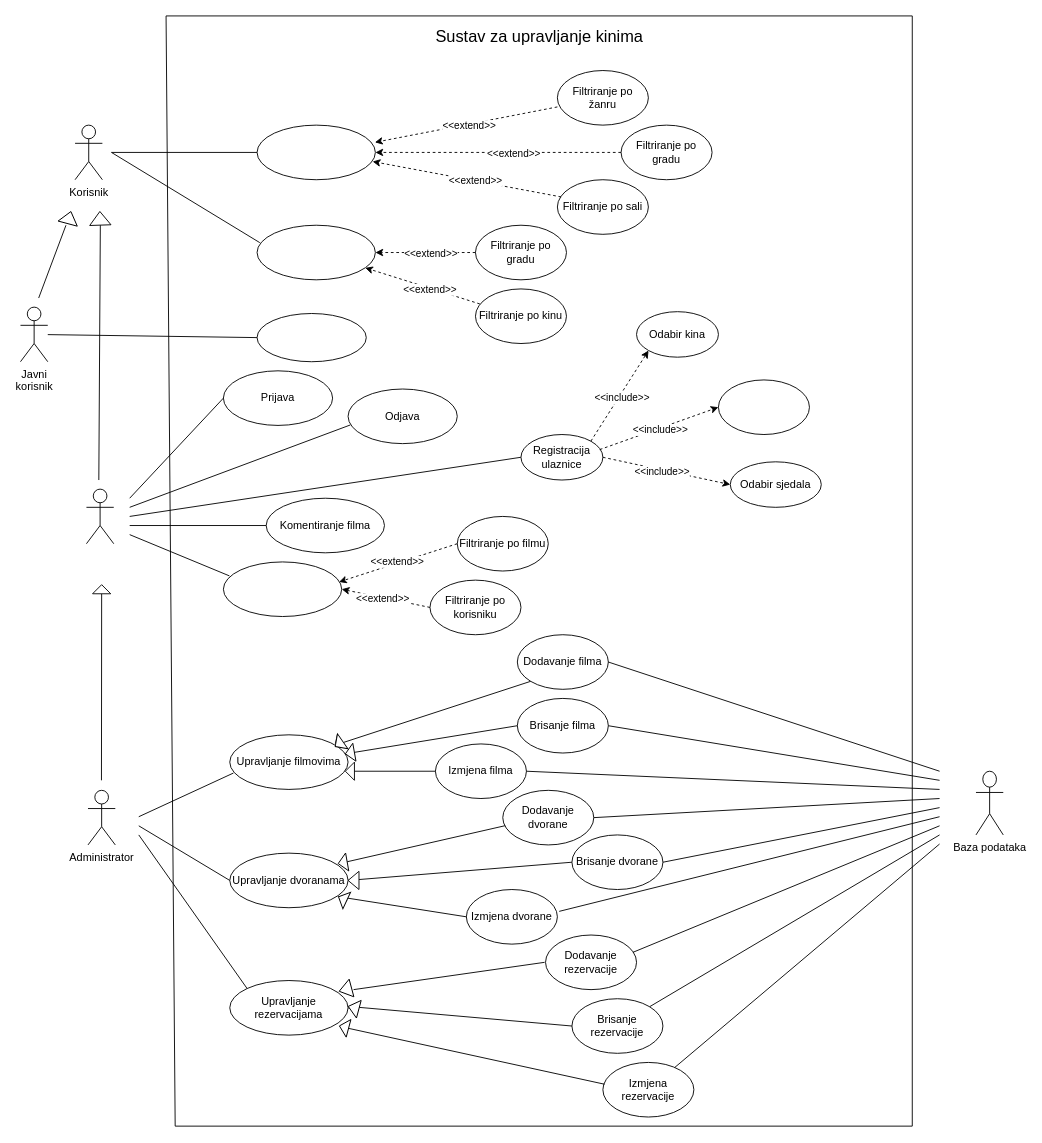
Some shapes in this 1042 by 1143 pixel diagram are drawn without their labels. The shapes that lost their labels are listed below. From the top down, each one's centre as x and y in pixels, then its label:
the point at 315,152: Pregled rasporeda projekcija
the point at 315,252: Pregled sala
the point at 311,337: Registracija
the point at 763,407: Odabir filma
the point at 100,516: Registrirani korisnik
the point at 282,589: Pregled komentara
